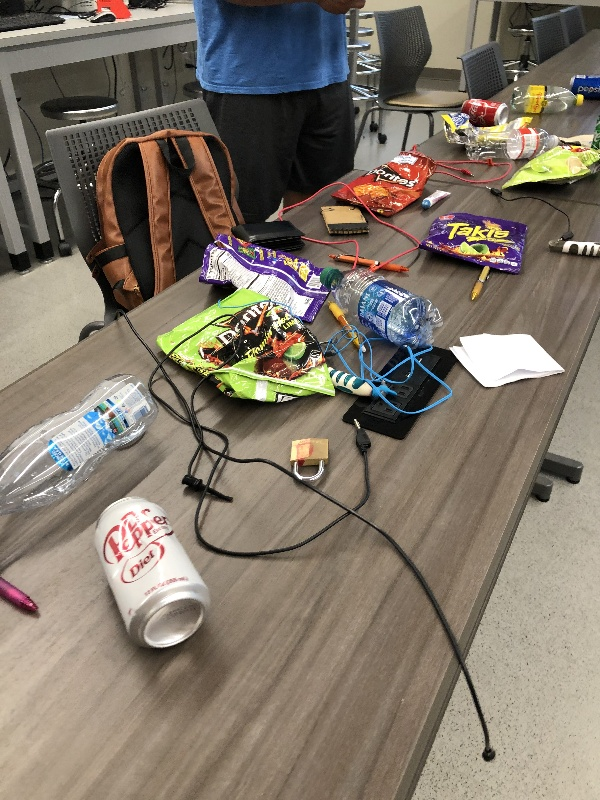bag: (154, 284, 339, 407), (195, 230, 343, 327), (419, 206, 535, 280), (332, 148, 437, 218), (499, 143, 600, 194), (436, 107, 539, 147)
bottle: (1, 371, 159, 524), (318, 265, 449, 354), (460, 123, 562, 168), (506, 81, 586, 118)
can: (92, 492, 219, 655), (457, 95, 512, 125), (567, 72, 600, 101)
